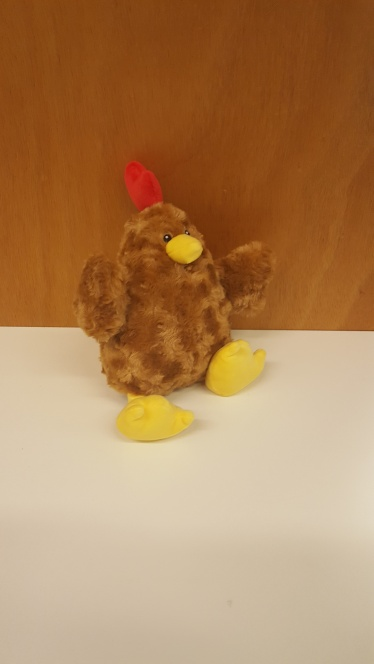chicken_front: (71, 156, 278, 445)
